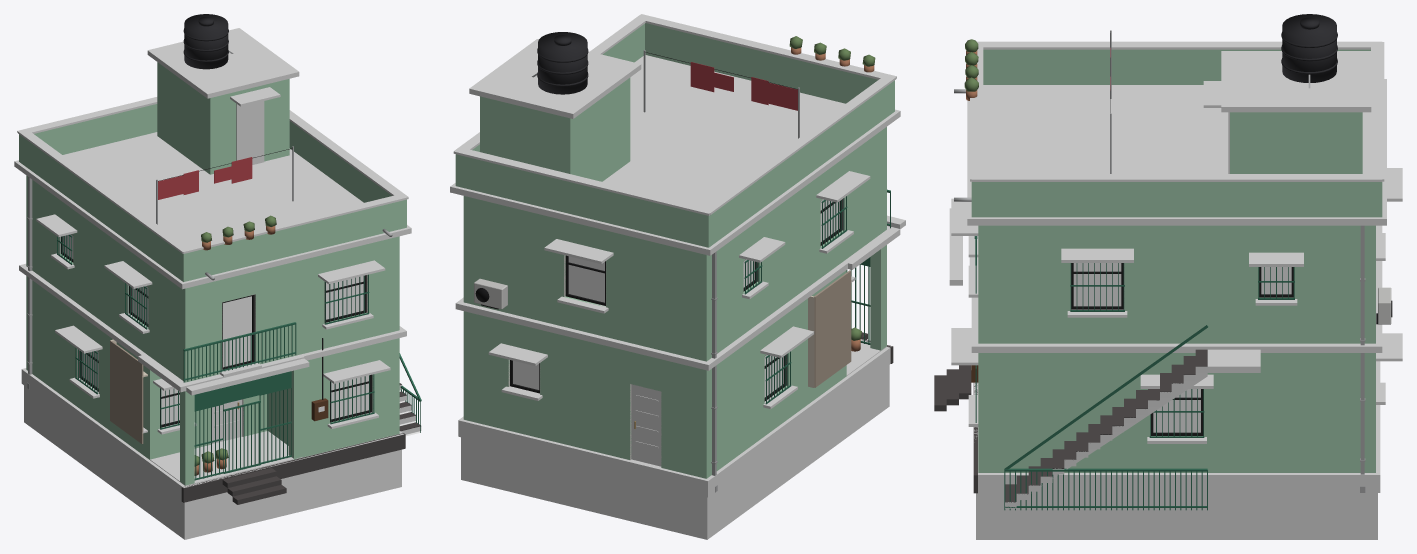
The model's file is tn_house_7x9_2.glb.
3 renders of one model, left to right at view 1: azimuth 30°, elevation 25°; view 2: azimuth 150°, elevation 25°; view 3: azimuth 270°, elevation 25°, orthographic. The views are drawn at different scales.
Visible parts, largest first — view 1: tn_house_7x9_2; view 2: tn_house_7x9_2; view 3: tn_house_7x9_2.
Part boxes in pixels (x1,y1,x2,y2): tn_house_7x9_2: (14,14,421,539); tn_house_7x9_2: (450,14,905,539); tn_house_7x9_2: (934,14,1402,539).
Size of the model in its own units: 8.67 by 12 by 10.61.
